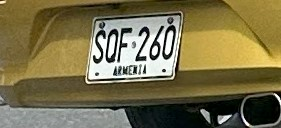number plate: (85, 11, 182, 83)
